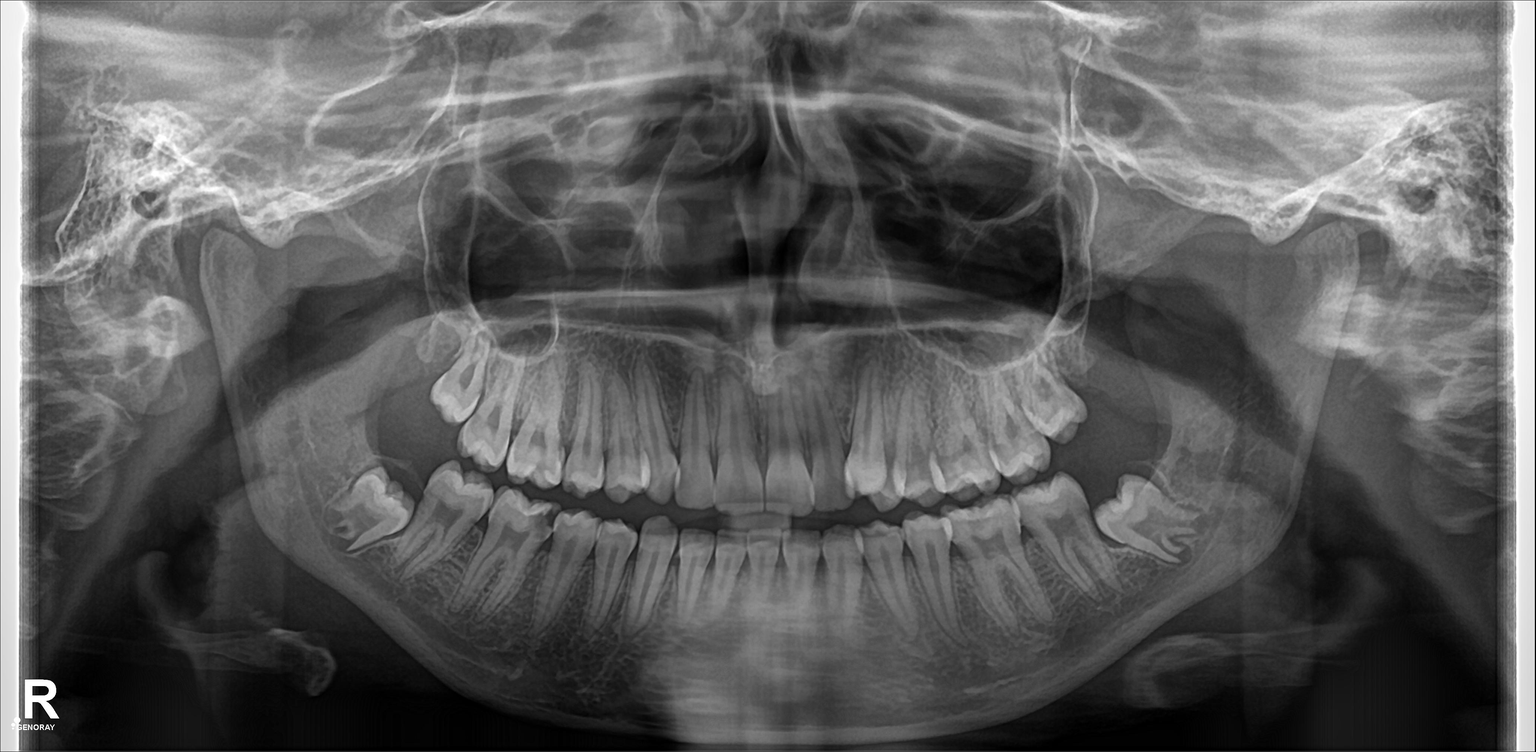Impacted Third Molar: (1099, 480, 1202, 560), (313, 467, 411, 550)
Missing Tooth: (1065, 324, 1120, 402), (403, 329, 448, 399)
